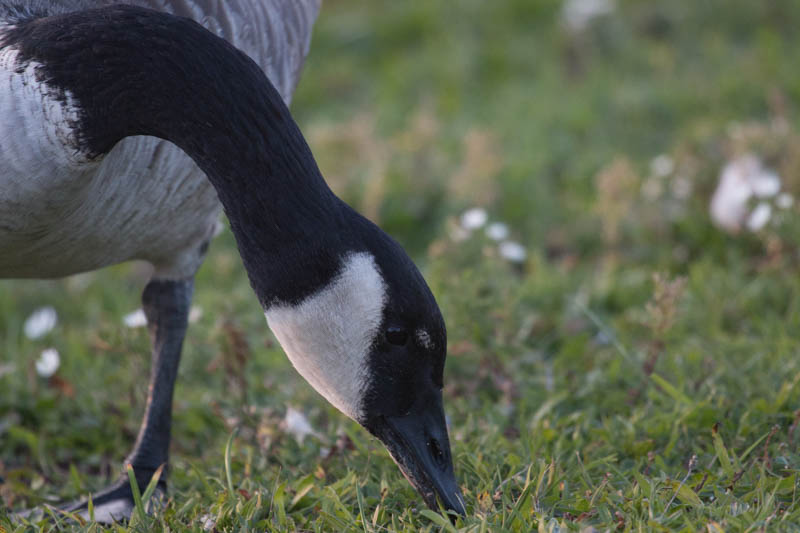goose-head: (240, 211, 467, 520)
